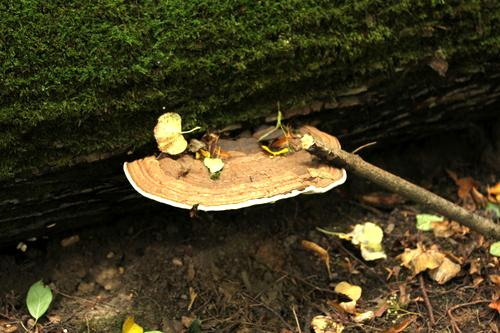Ganoderma - Fruit Body: (117, 123, 346, 216)
